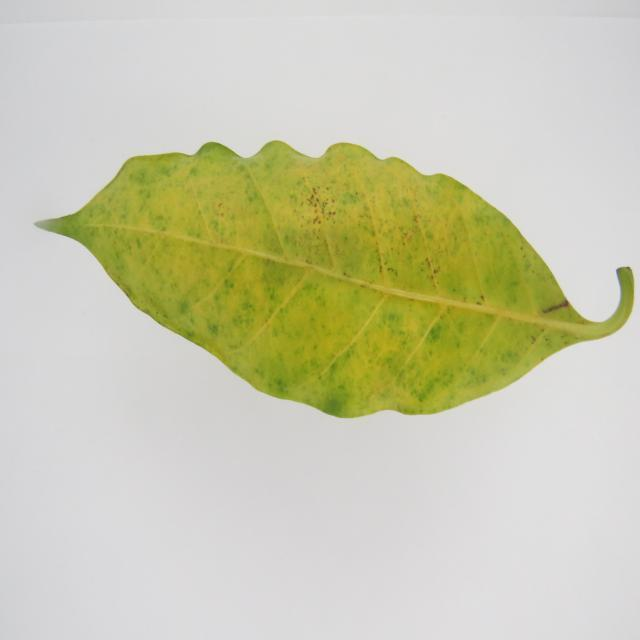DeficienciaNutricional-Calcio: (36, 142, 634, 417)
